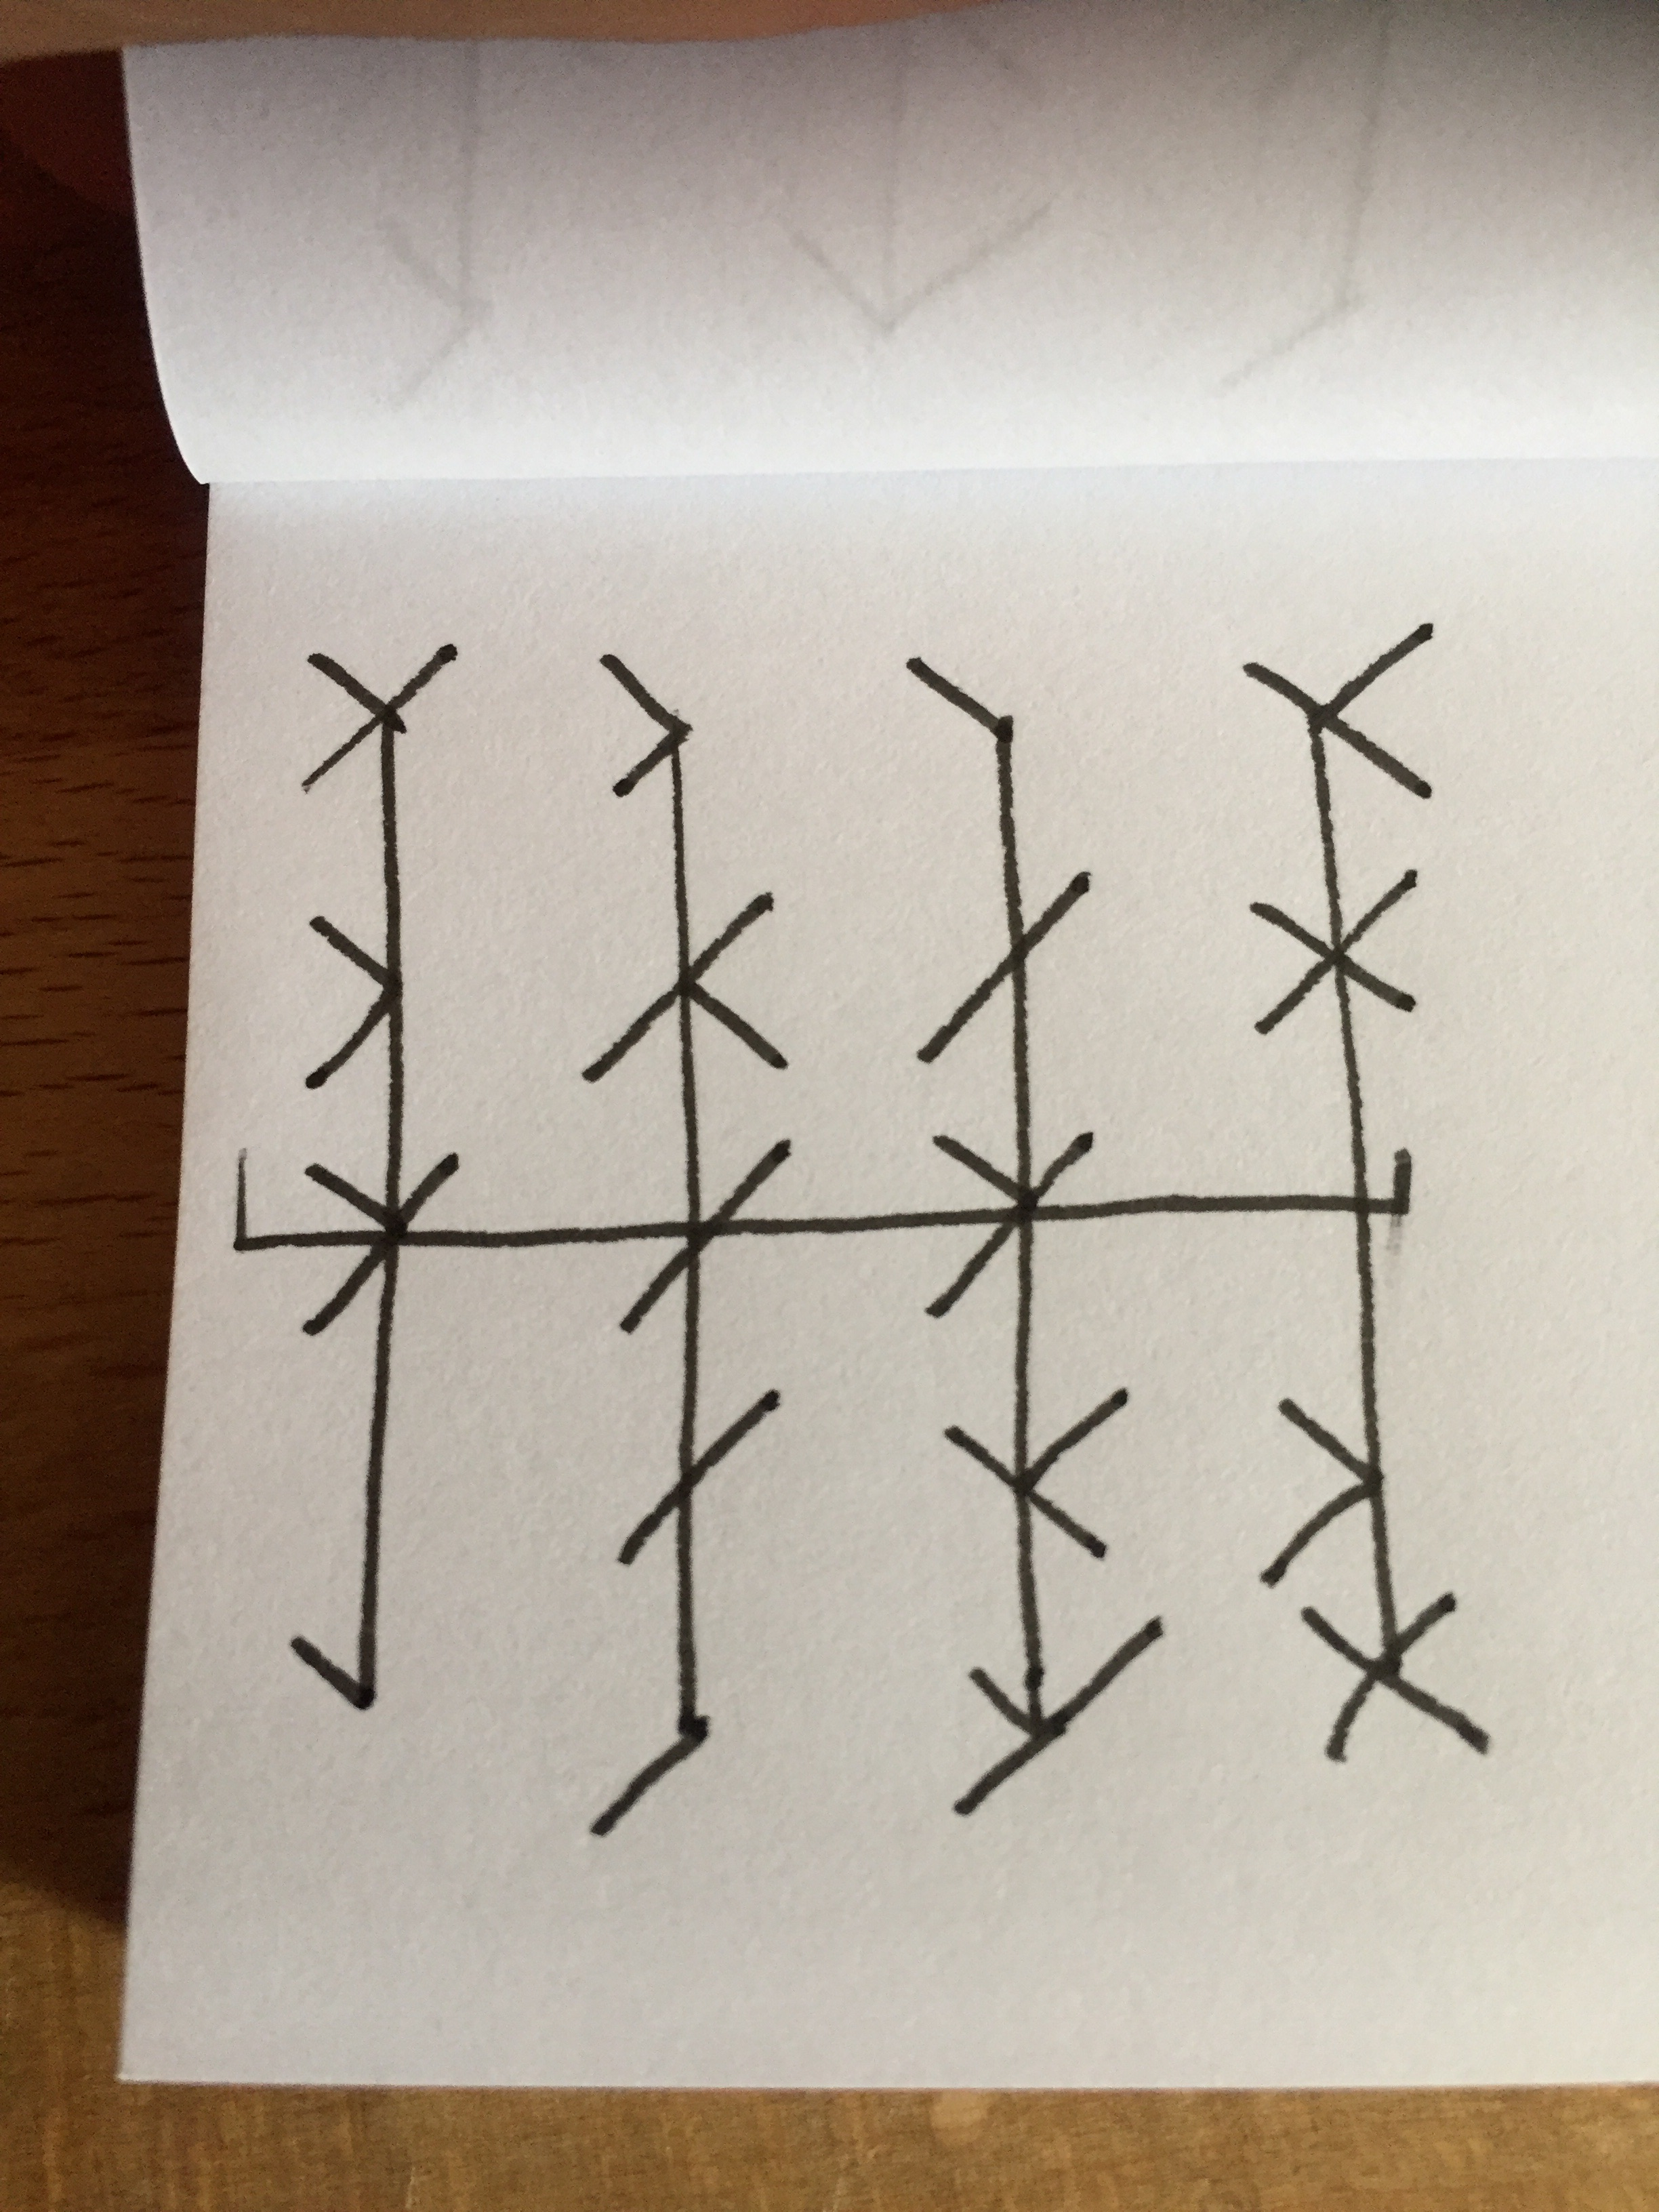Bar: (903, 653, 1166, 1815), (1243, 622, 1490, 1766), (579, 655, 793, 1839), (289, 643, 458, 1712)
Barcode: (232, 620, 1492, 1839)
End: (1370, 1148, 1415, 1216)
Start: (228, 1150, 296, 1254)
